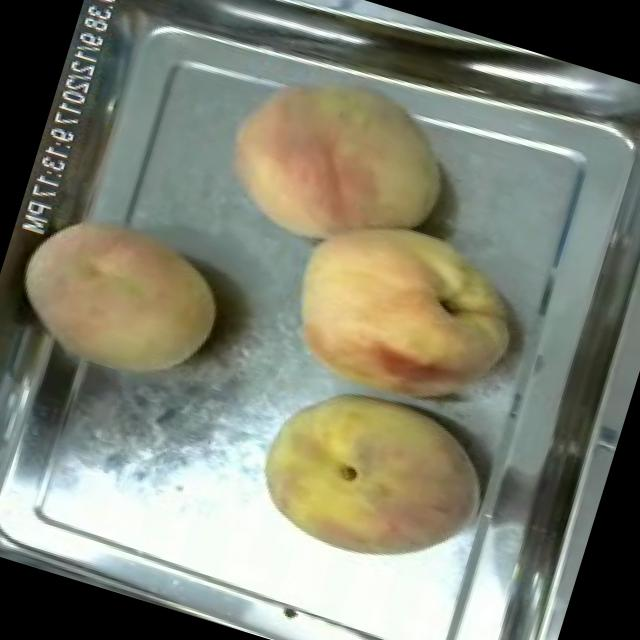Fruit: (261, 188, 544, 438), (198, 38, 474, 286), (237, 358, 508, 594), (0, 190, 242, 403)
